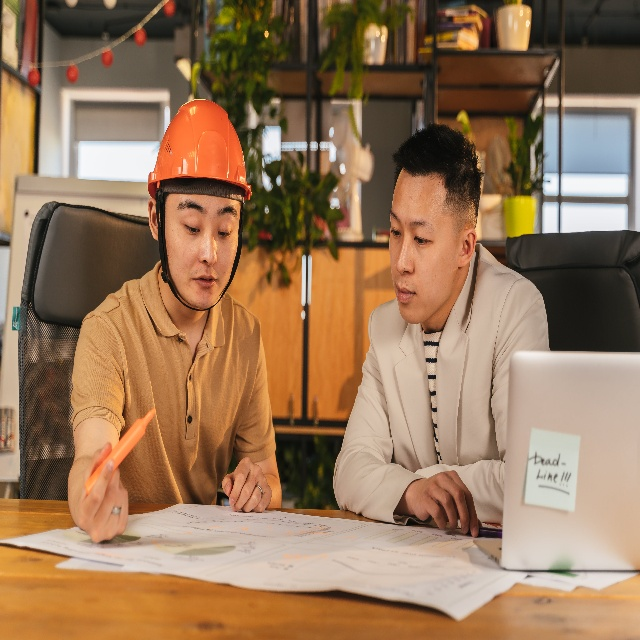Sin_guantes: (76, 442, 129, 540), (413, 468, 479, 539), (222, 455, 273, 514)
